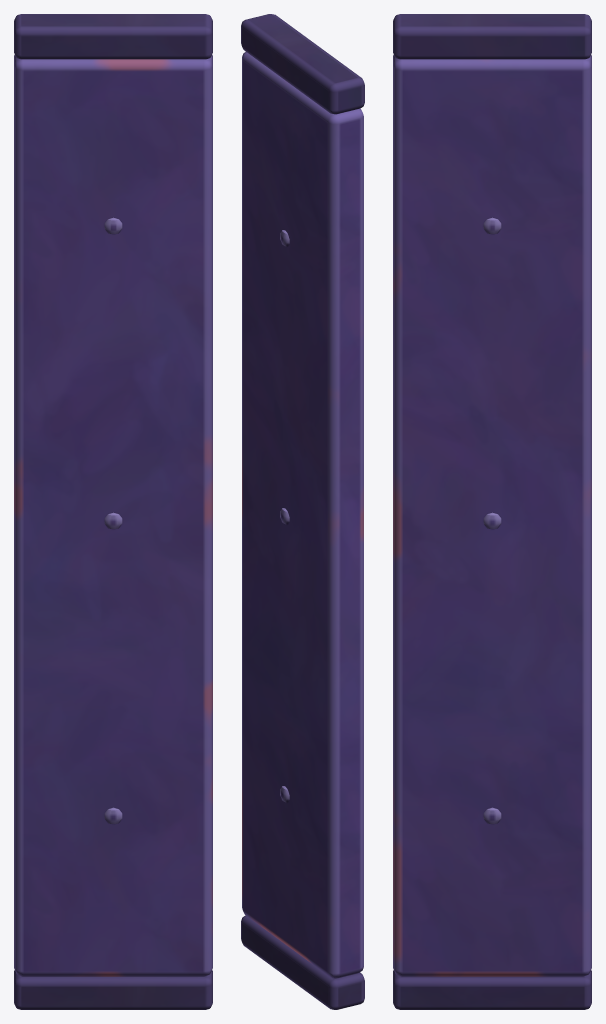
File: bg_claude_jamb.glb
The picture shows the model from 3 angles, left to right: view 1: azimuth 90°, elevation 25°; view 2: azimuth 210°, elevation 25°; view 3: azimuth 270°, elevation 25°; orthographic projection. The views are drawn at different scales.
Parts seen in each view (by area): view 1: wall; view 2: wall; view 3: wall.
Part boxes in pixels (<box>): wall: <box>14,14,212,1009</box>; wall: <box>241,14,364,1009</box>; wall: <box>393,14,591,1009</box>.
Size of the model in its own units: 0.1412 by 3 by 0.55.
1 material, 1 textured.
